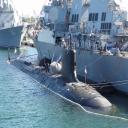submarine: (6, 48, 116, 113)
